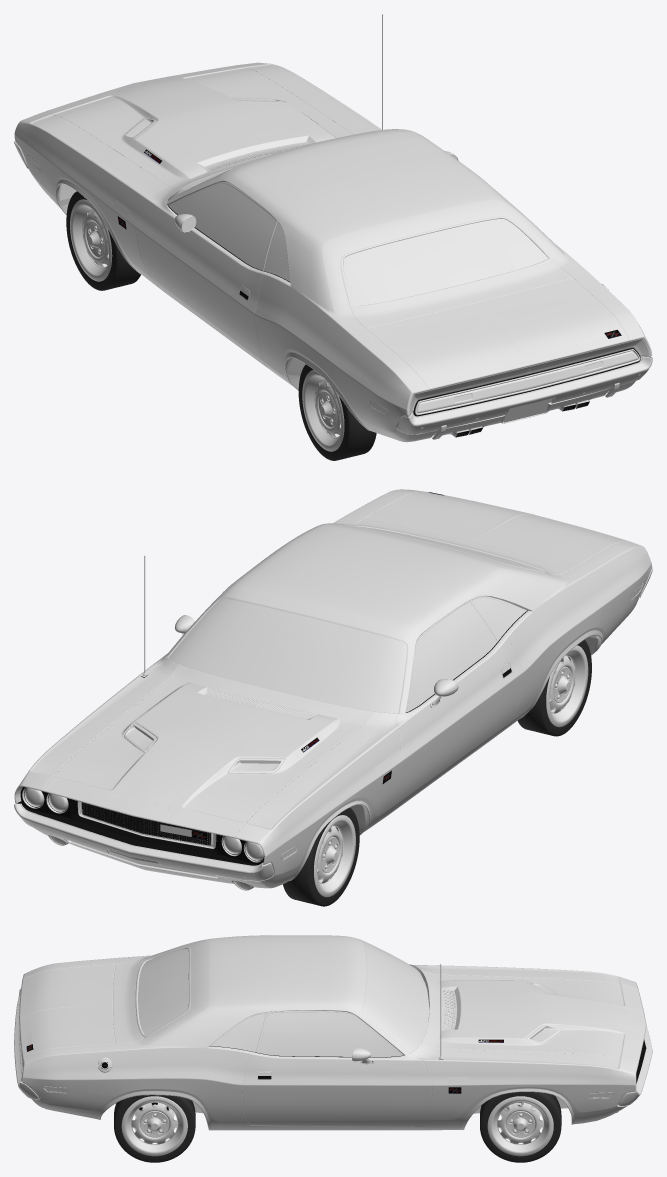
The model's file is MCLA_VP_DGE_CHALLENGER_70.glb.
The picture shows the model from 3 angles, top to bottom: view 1: azimuth 30°, elevation 25°; view 2: azimuth 150°, elevation 25°; view 3: azimuth 270°, elevation 25°; orthographic projection. The views are drawn at different scales.
Parts seen in each view (by area): view 1: vp_dge_challenger_70/resources/vehicle/vp_dge_challenger_70/ (×9), shared/resources/rims/whl_stk_dge_challenger_70@axl_0/model0, shared/resources/rims/whl_stk_dge_challenger_70@axl_2/model0, shared/resources/tires/models/tir_car@axl_2/model0, shared/resources/tires/models/tir_car@axl_0/model0; view 2: vp_dge_challenger_70/resources/vehicle/vp_dge_challenger_70/ (×9), shared/resources/rims/whl_stk_dge_challenger_70@axl_0/model0, shared/resources/rims/whl_stk_dge_challenger_70@axl_2/model0, shared/resources/tires/models/tir_car@axl_0/model0, shared/resources/tires/models/tir_car@axl_2/model0; view 3: vp_dge_challenger_70/resources/vehicle/vp_dge_challenger_70/ (×7), shared/resources/rims/whl_stk_dge_challenger_70@axl_1/model0, shared/resources/rims/whl_stk_dge_challenger_70@axl_3/model0, shared/resources/tires/models/tir_car@axl_1/model0, shared/resources/tires/models/tir_car@axl_3/model0.
Part boxes in pixels (<box>): vp_dge_challenger_70/resources/vehicle/vp_dge_challenger_70/ (×9): <box>14,62,652,442</box>; shared/resources/rims/whl_stk_dge_challenger_70@axl_0/model0: <box>70,199,112,281</box>; shared/resources/rims/whl_stk_dge_challenger_70@axl_2/model0: <box>302,369,344,451</box>; shared/resources/tires/models/tir_car@axl_2/model0: <box>298,364,376,460</box>; shared/resources/tires/models/tir_car@axl_0/model0: <box>66,191,140,290</box>; vp_dge_challenger_70/resources/vehicle/vp_dge_challenger_70/ (×9): <box>14,489,652,890</box>; shared/resources/rims/whl_stk_dge_challenger_70@axl_0/model0: <box>314,815,355,897</box>; shared/resources/rims/whl_stk_dge_challenger_70@axl_2/model0: <box>546,645,588,727</box>; shared/resources/tires/models/tir_car@axl_0/model0: <box>283,807,359,906</box>; shared/resources/tires/models/tir_car@axl_2/model0: <box>517,639,591,736</box>; vp_dge_challenger_70/resources/vehicle/vp_dge_challenger_70/ (×7): <box>14,935,652,1130</box>; shared/resources/rims/whl_stk_dge_challenger_70@axl_1/model0: <box>487,1096,553,1156</box>; shared/resources/rims/whl_stk_dge_challenger_70@axl_3/model0: <box>121,1096,187,1156</box>; shared/resources/tires/models/tir_car@axl_1/model0: <box>480,1092,561,1162</box>; shared/resources/tires/models/tir_car@axl_3/model0: <box>114,1095,195,1162</box>.
Bounding box in the file's own units: 1.95 × 1.69 × 4.94.
135 materials, 65 textured.
